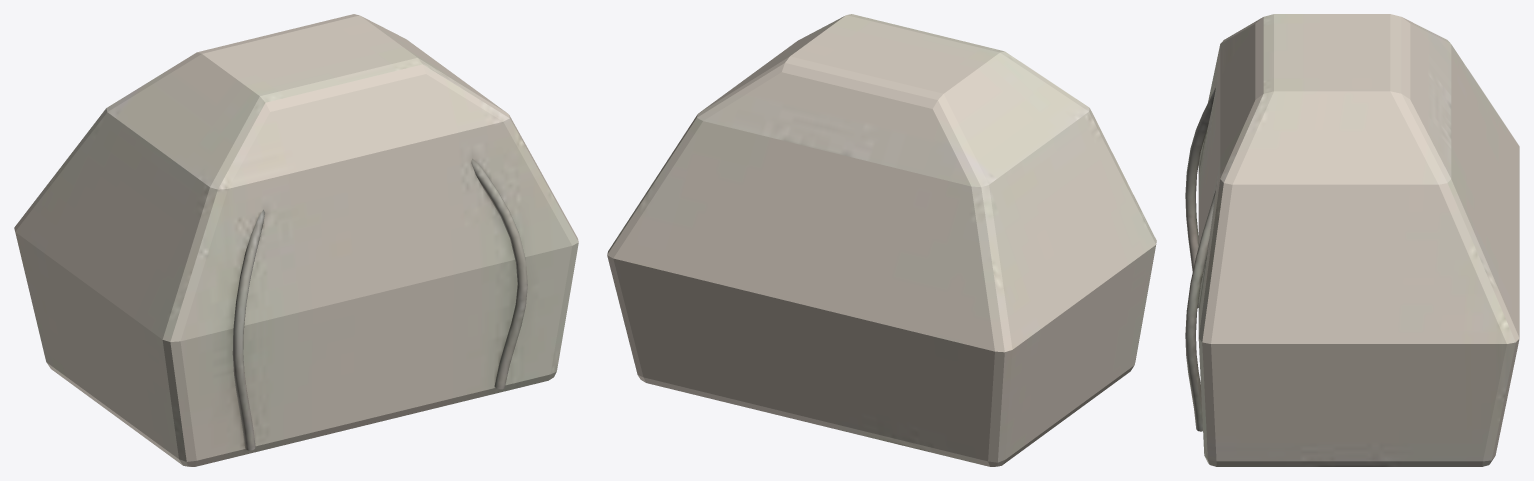
File: dressing-dust-large.glb
3 views of the same model, side by side, from view 1: azimuth 30°, elevation 25°; view 2: azimuth 150°, elevation 25°; view 3: azimuth 270°, elevation 25° (orthographic). The views are drawn at different scales.
Parts seen in each view (by area): view 1: case-baked; view 2: case-baked; view 3: case-baked.
Boxes of the visible parts, x1,y1,x2,y2 form: case-baked: [14, 14, 578, 466]; case-baked: [607, 14, 1156, 466]; case-baked: [1185, 14, 1519, 466].
Bounding box in the file's own units: 0.72 × 0.54 × 0.5.
1 material, 1 textured.
